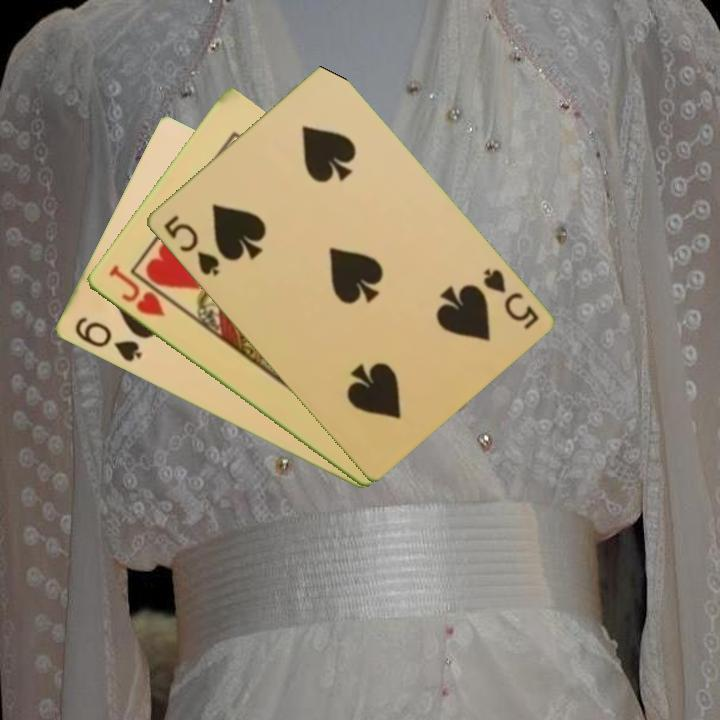5s: (478, 264, 542, 333), (159, 211, 222, 279)
6s: (70, 313, 145, 365)
Jh: (104, 261, 168, 320)
